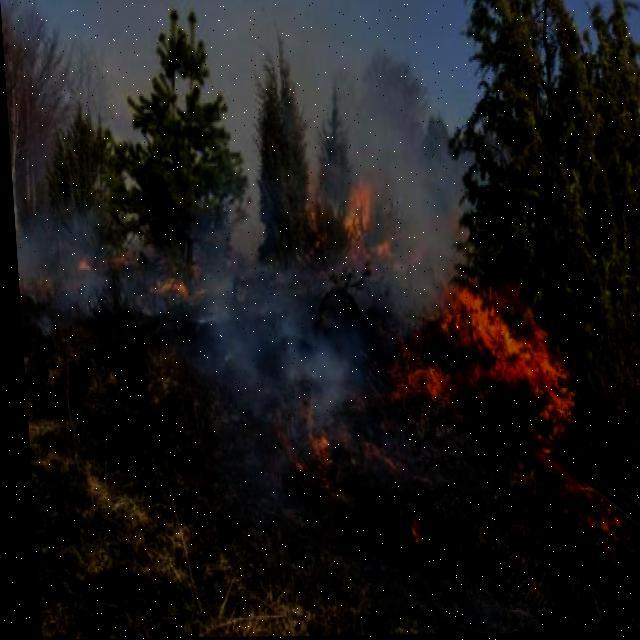Fire: (390, 262, 626, 565), (292, 174, 387, 279), (72, 234, 194, 310)
